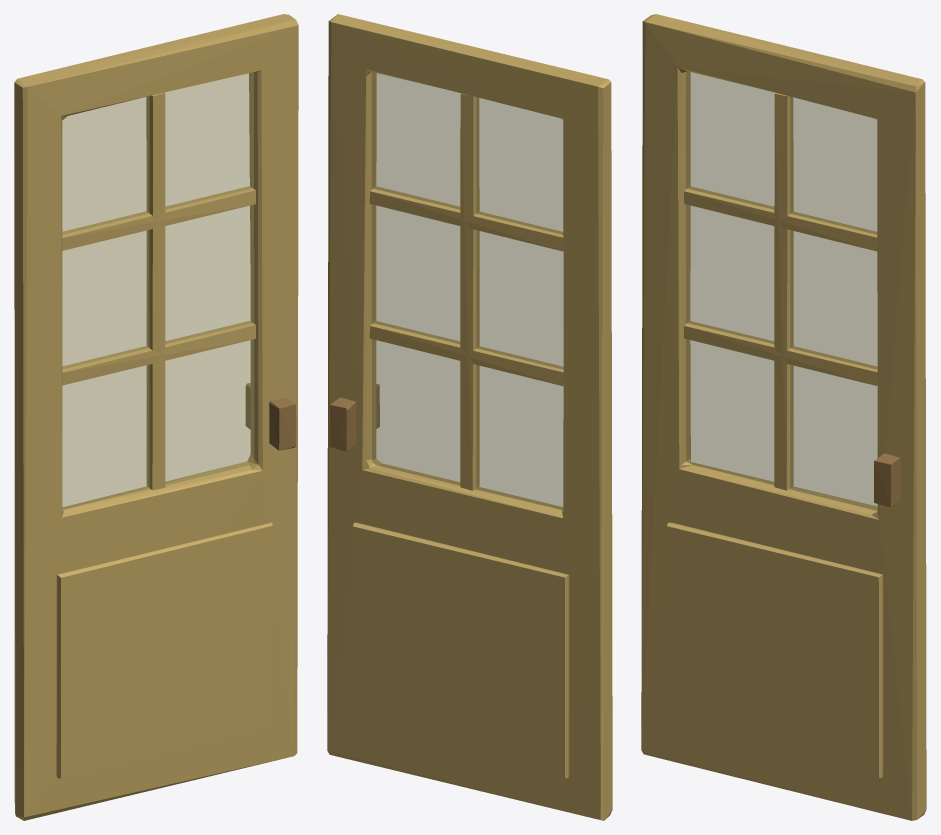
File: SM_Kit_Door_Glass_LOD2.glb
The picture shows the model from 3 angles, left to right: view 1: azimuth 30°, elevation 25°; view 2: azimuth 150°, elevation 25°; view 3: azimuth 330°, elevation 25°; orthographic projection.
Parts seen in each view (by area): view 1: SM_Kit_Door_Glass_LOD2; view 2: SM_Kit_Door_Glass_LOD2; view 3: SM_Kit_Door_Glass_LOD2.
Boxes of the visible parts, x1=… form: SM_Kit_Door_Glass_LOD2: x1=14, y1=14, x2=298, y2=820; SM_Kit_Door_Glass_LOD2: x1=327, y1=14, x2=612, y2=820; SM_Kit_Door_Glass_LOD2: x1=641, y1=14, x2=926, y2=820.
Size of the model in its own units: 0.8113 by 2.07 by 0.1715.
